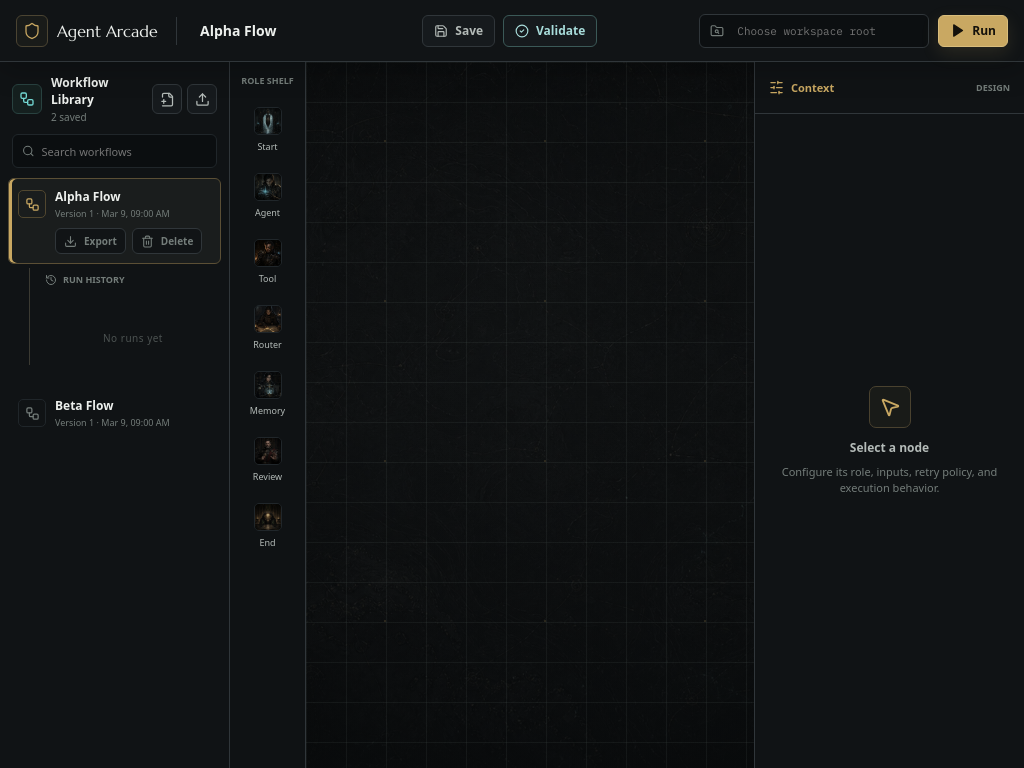
Test: App — unified workspace shell › opens the native workspace picker and applies the selected folder
Click the button with test id "workspace-picker-btn": (717, 30) [705,18,729,42]
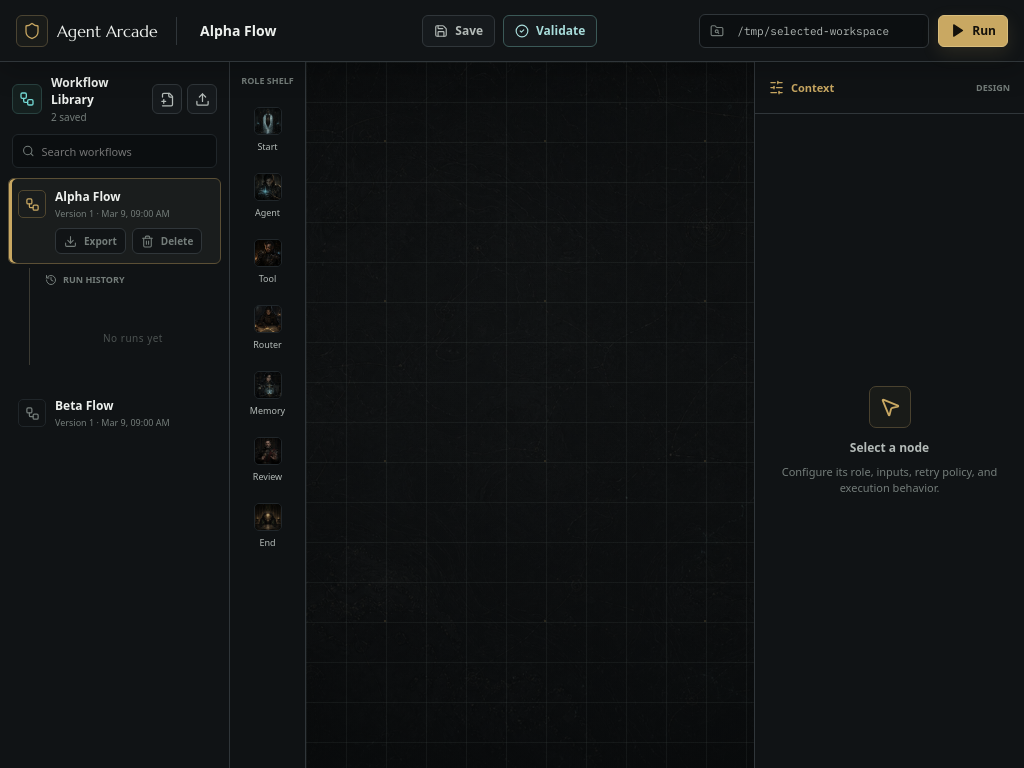
Expected: the field with test id "workspace-input" holds "/tmp/selected-workspace", [737,24,918,38]
